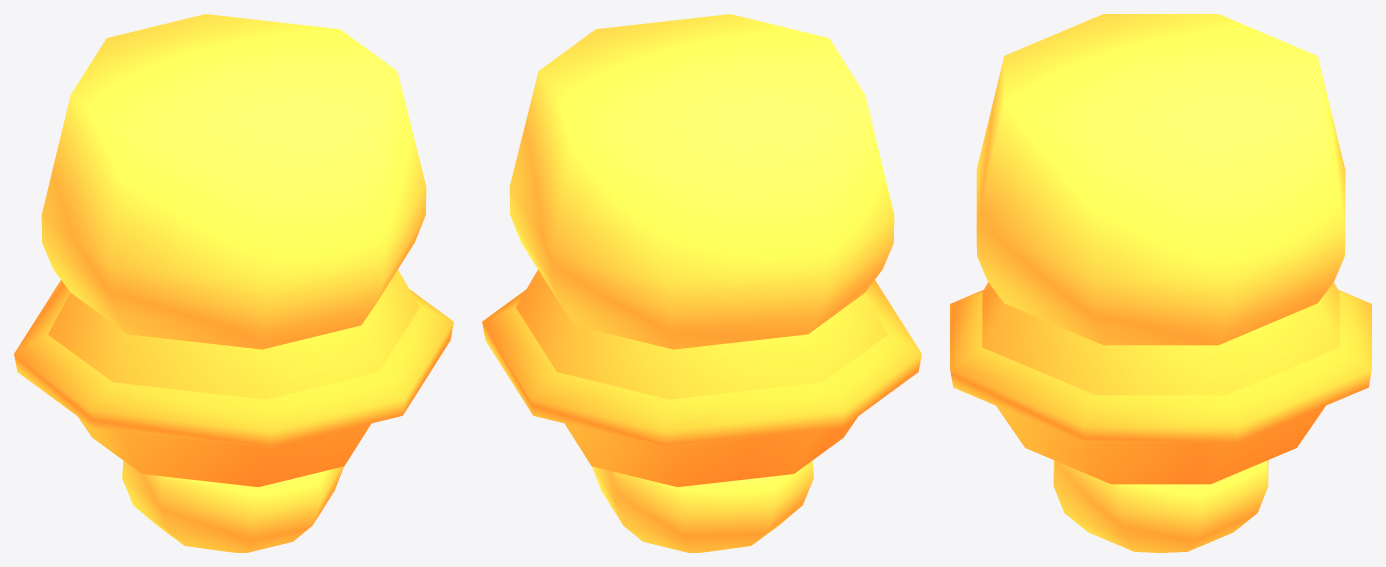
File: gold_pommel_004.glb
3 views of the same model, side by side, from view 1: azimuth 30°, elevation 25°; view 2: azimuth 150°, elevation 25°; view 3: azimuth 270°, elevation 25° (orthographic).
Parts seen in each view (by area): view 1: gold_pommel_004; view 2: gold_pommel_004; view 3: gold_pommel_004.
Boxes of the visible parts, x1=… form: gold_pommel_004: x1=14, y1=14, x2=453, y2=552; gold_pommel_004: x1=482, y1=14, x2=921, y2=552; gold_pommel_004: x1=950, y1=14, x2=1371, y2=552.
Size of the model in its own units: 1.85 by 2.26 by 1.85.
1 material, 1 textured.
